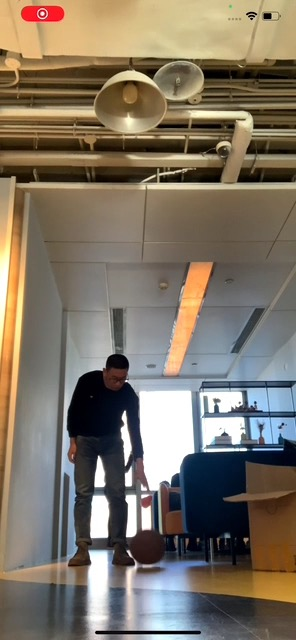ball: (129, 529, 166, 565)
